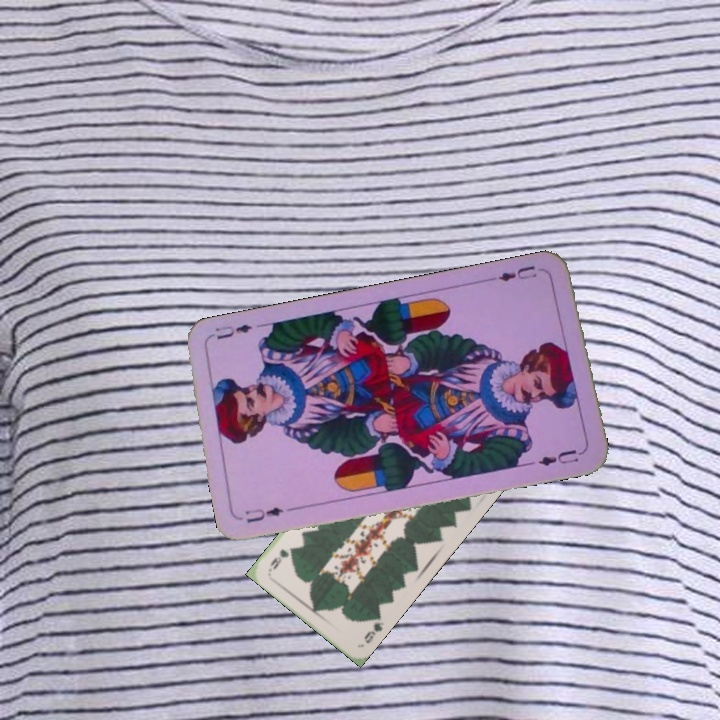EU: (494, 261, 547, 284), (241, 502, 286, 526)
G9: (360, 618, 386, 646)
